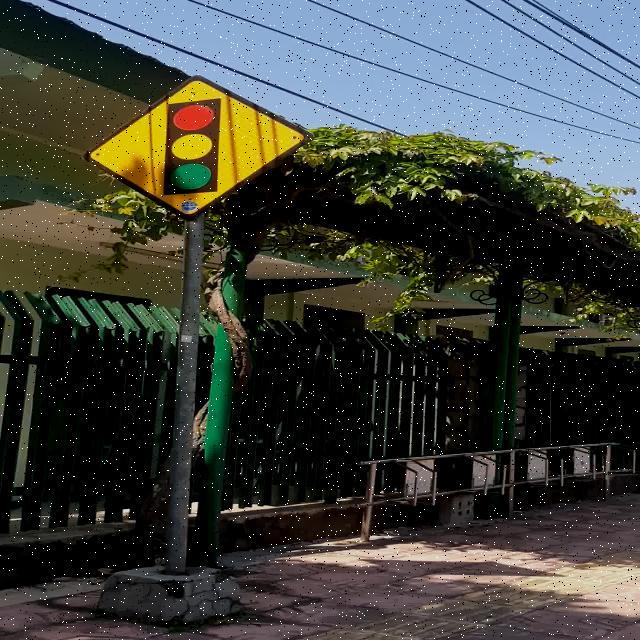Lampu Lalu Lintas: (83, 75, 314, 220)
